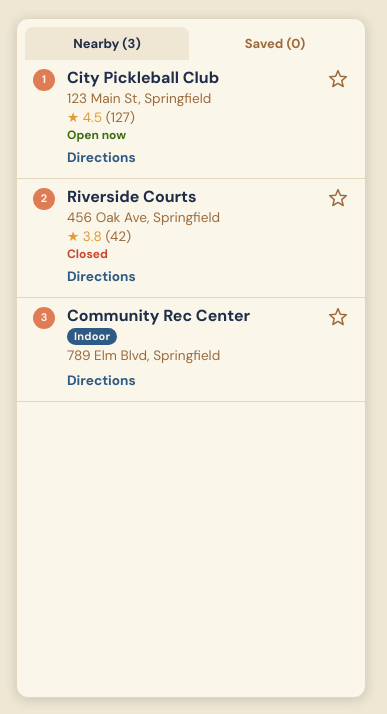
Test: CourtList › shows an empty state under Saved when there are no favorites
The width and height of the screenshot is (387, 714).
Click the tab "Saved (0)" at point(275, 44), box x1=193 y1=27 x2=357 y2=60
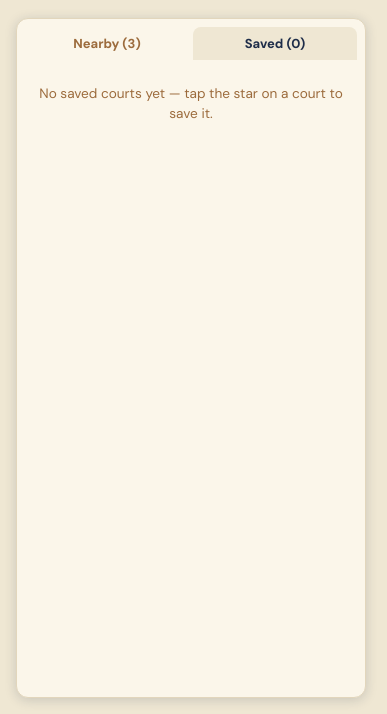
Check: the text "No saved courts yet — tap the star on a court to save it." is shown, box x1=39 y1=85 x2=343 y2=122
